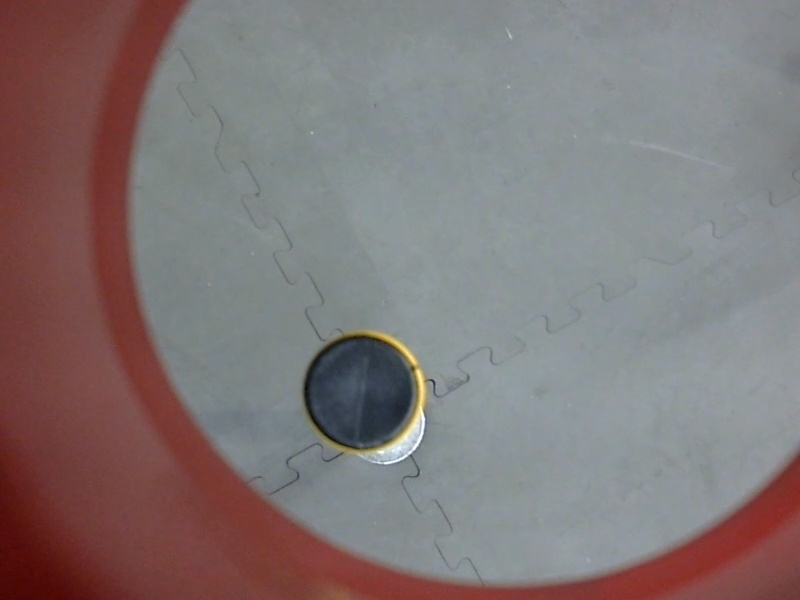tip: (294, 317, 435, 465)
